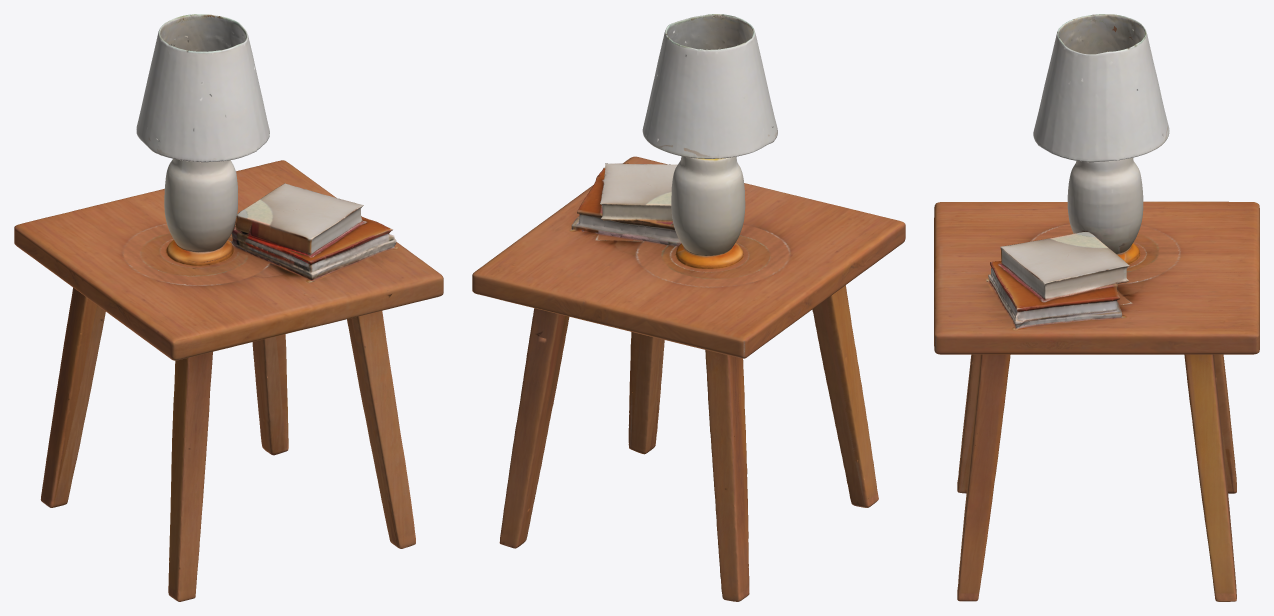
Rendered from a_small_table_in_fron_0724170847_texture.fbx.
3 renders of one model, left to right at view 1: azimuth 30°, elevation 25°; view 2: azimuth 150°, elevation 25°; view 3: azimuth 270°, elevation 25°, orthographic.
Visible parts, largest first — view 1: input; view 2: input; view 3: input.
Boxes of the visible parts, bbox=[...] form: input: bbox=[14, 14, 443, 601]; input: bbox=[472, 14, 905, 601]; input: bbox=[934, 14, 1259, 601].
Size of the model in its own units: 115 by 200 by 118.
1 material, 1 textured.
